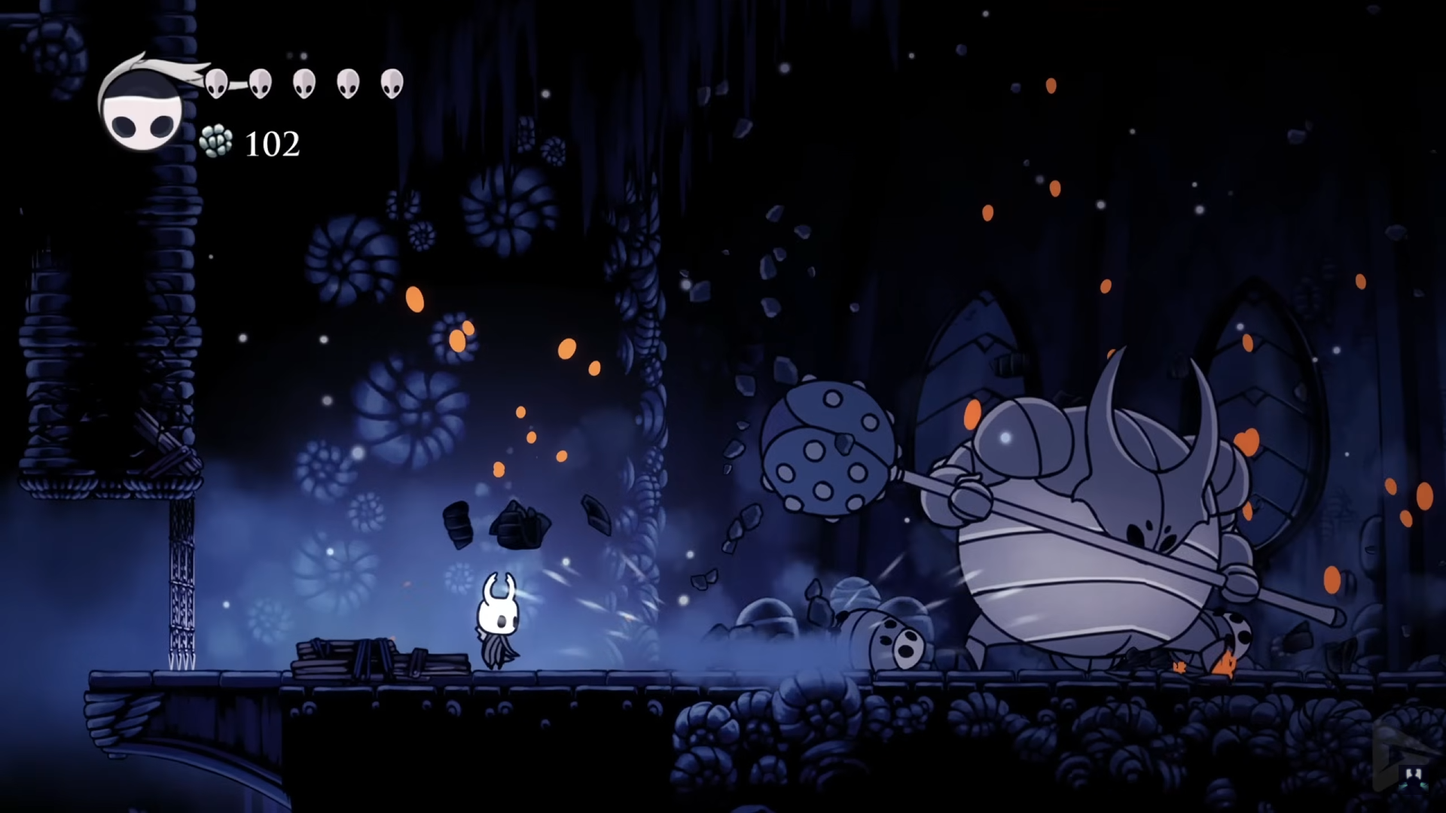HK: (466, 568, 527, 671)
